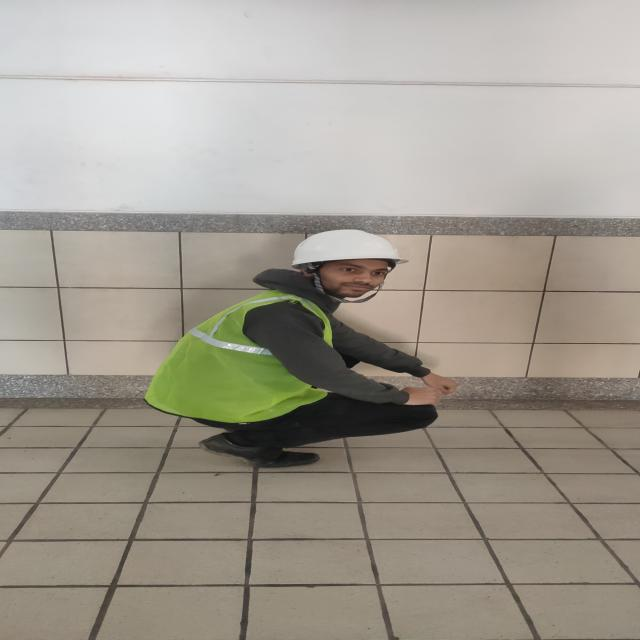safe: (142, 229, 442, 468)
